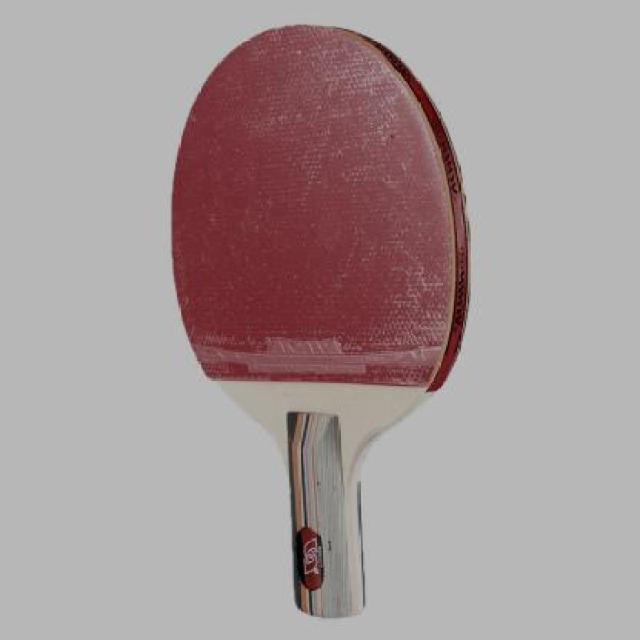table_tennis_racket: (171, 25, 471, 620)
